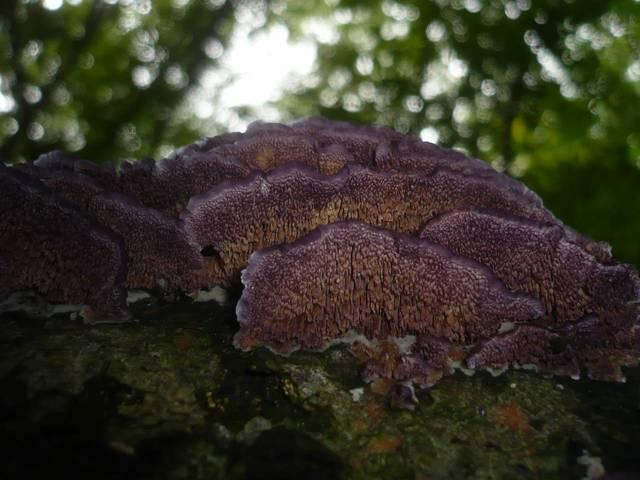Non-edible Mushroom: (0, 114, 638, 405)
